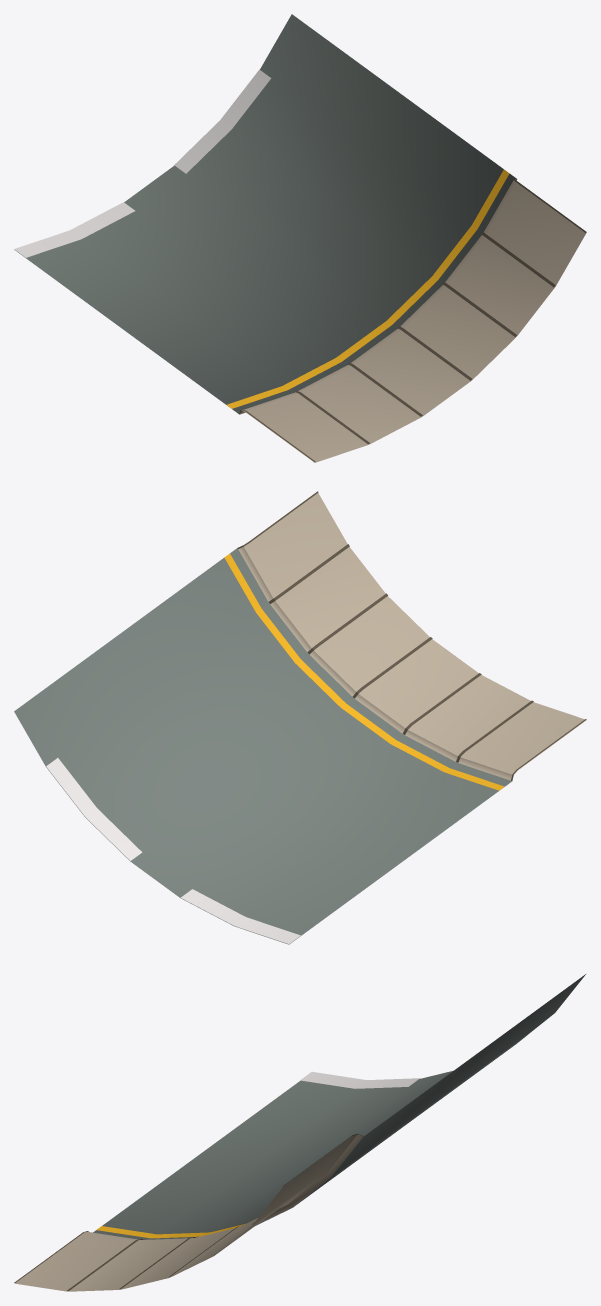
Rendered from Road03.fbx.
3 views of the same model, one above another, from view 1: azimuth 30°, elevation 25°; view 2: azimuth 150°, elevation 25°; view 3: azimuth 330°, elevation 25° (orthographic).
Parts seen in each view (by area): view 1: Road03; view 2: Road03; view 3: Road03.
Part boxes in pixels (<box>): Road03: <box>14,14,586,462</box>; Road03: <box>14,491,586,944</box>; Road03: <box>14,974,585,1291</box>.
Size of the model in its own units: 1067 by 629 by 2000.
